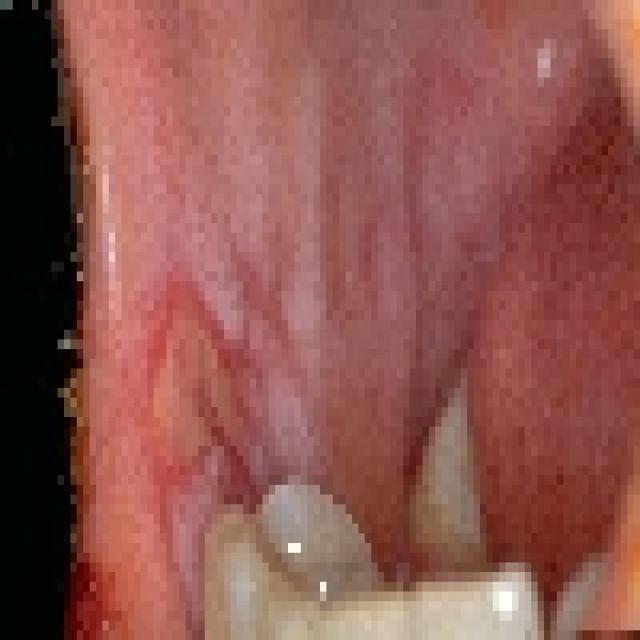lupus: (111, 245, 291, 497)
